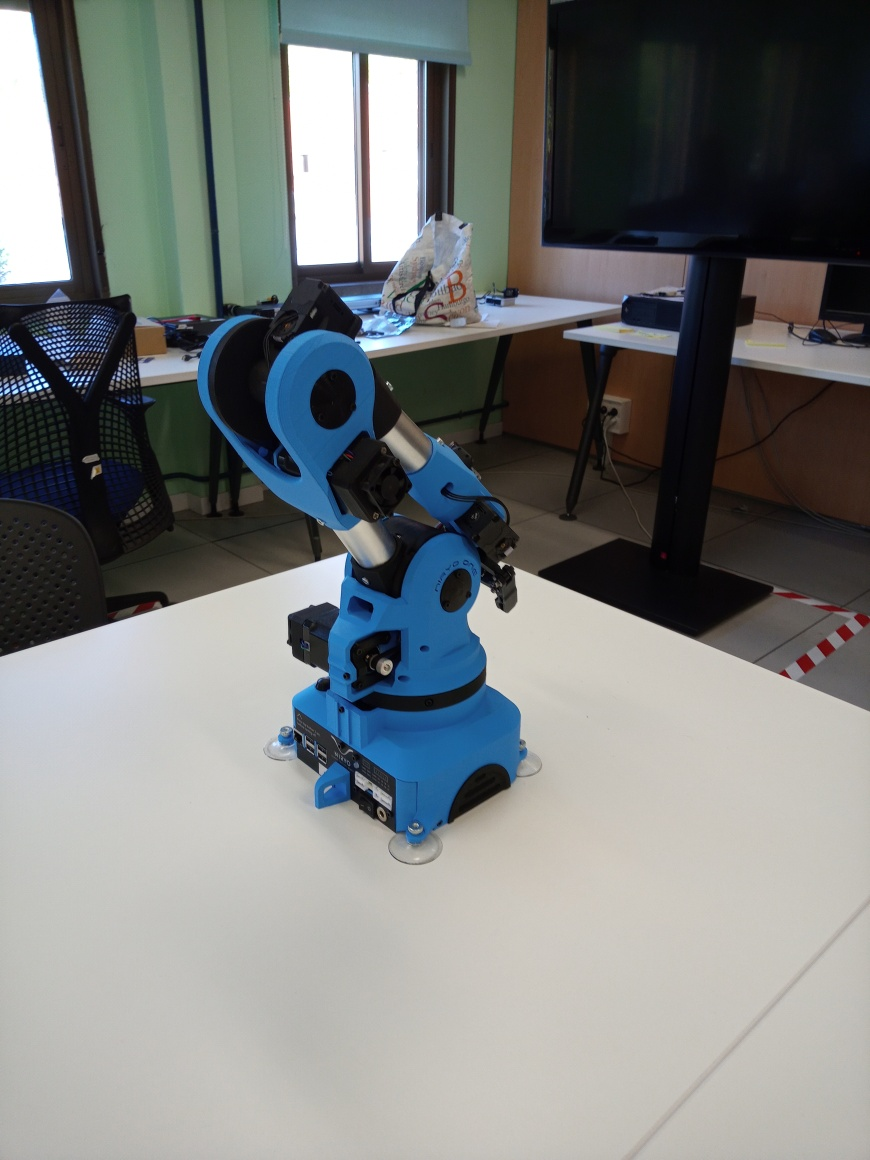robot: (196, 275, 547, 867)
